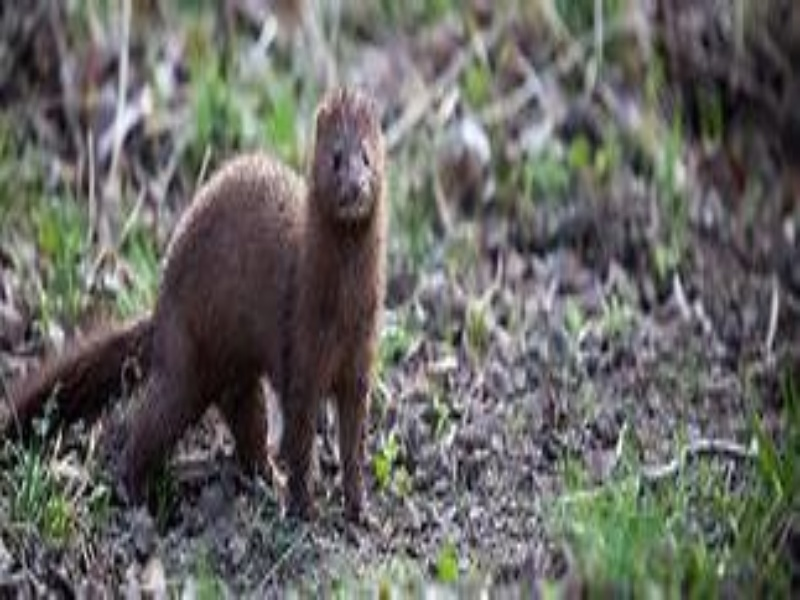minkish: (3, 80, 391, 534)
